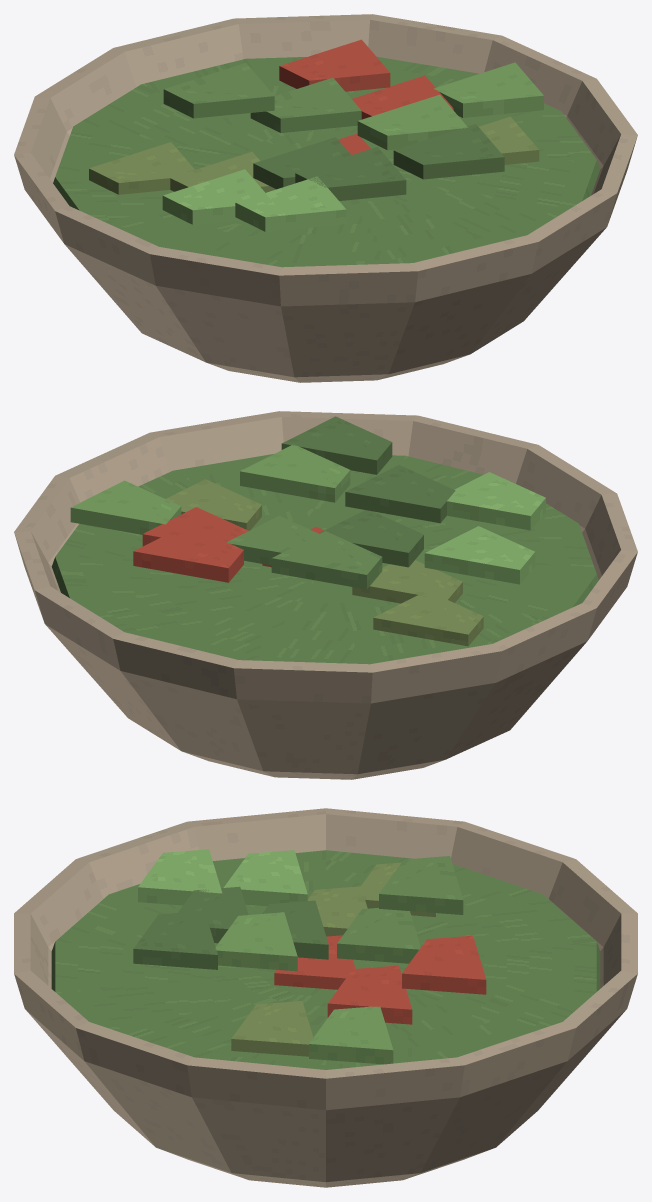
Rendered from veggy_salad.glb.
The picture shows the model from 3 angles, top to bottom: view 1: azimuth 30°, elevation 25°; view 2: azimuth 150°, elevation 25°; view 3: azimuth 270°, elevation 25°; orthographic projection. The views are drawn at different scales.
Visible parts, largest first — view 1: block_earthenware bowl, block_meal in bowl, block_torn leafy slice (×14); view 2: block_earthenware bowl, block_torn leafy slice (×14), block_meal in bowl; view 3: block_earthenware bowl, block_meal in bowl, block_torn leafy slice (×15).
Boxes of the visible parts, bbox=[...] form: block_earthenware bowl: bbox=[14, 14, 637, 382]; block_meal in bowl: bbox=[53, 56, 600, 267]; block_torn leafy slice (×14): bbox=[89, 39, 543, 231]; block_earthenware bowl: bbox=[14, 411, 637, 779]; block_torn leafy slice (×14): bbox=[70, 416, 545, 646]; block_meal in bowl: bbox=[51, 454, 598, 664]; block_earthenware bowl: bbox=[14, 808, 637, 1187]; block_meal in bowl: bbox=[51, 850, 600, 1069]; block_torn leafy slice (×15): bbox=[133, 849, 486, 1064].
Size of the model in its own units: 0.1203 by 0.0428 by 0.1173.
1 material, 1 textured.
